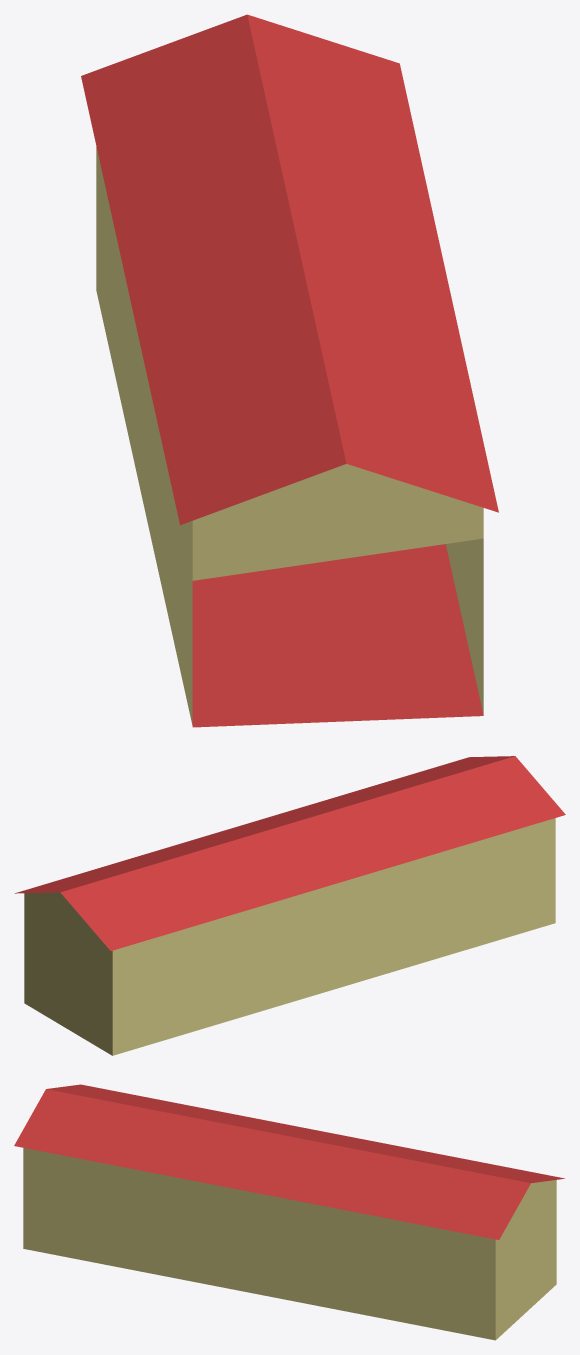
3 views of the same model, one above another, from view 1: azimuth 30°, elevation 25°; view 2: azimuth 150°, elevation 25°; view 3: azimuth 270°, elevation 25° (orthographic). The views are drawn at different scales.
Bounding box in the file's own units: 26.18 × 39.23 × 10.34.
